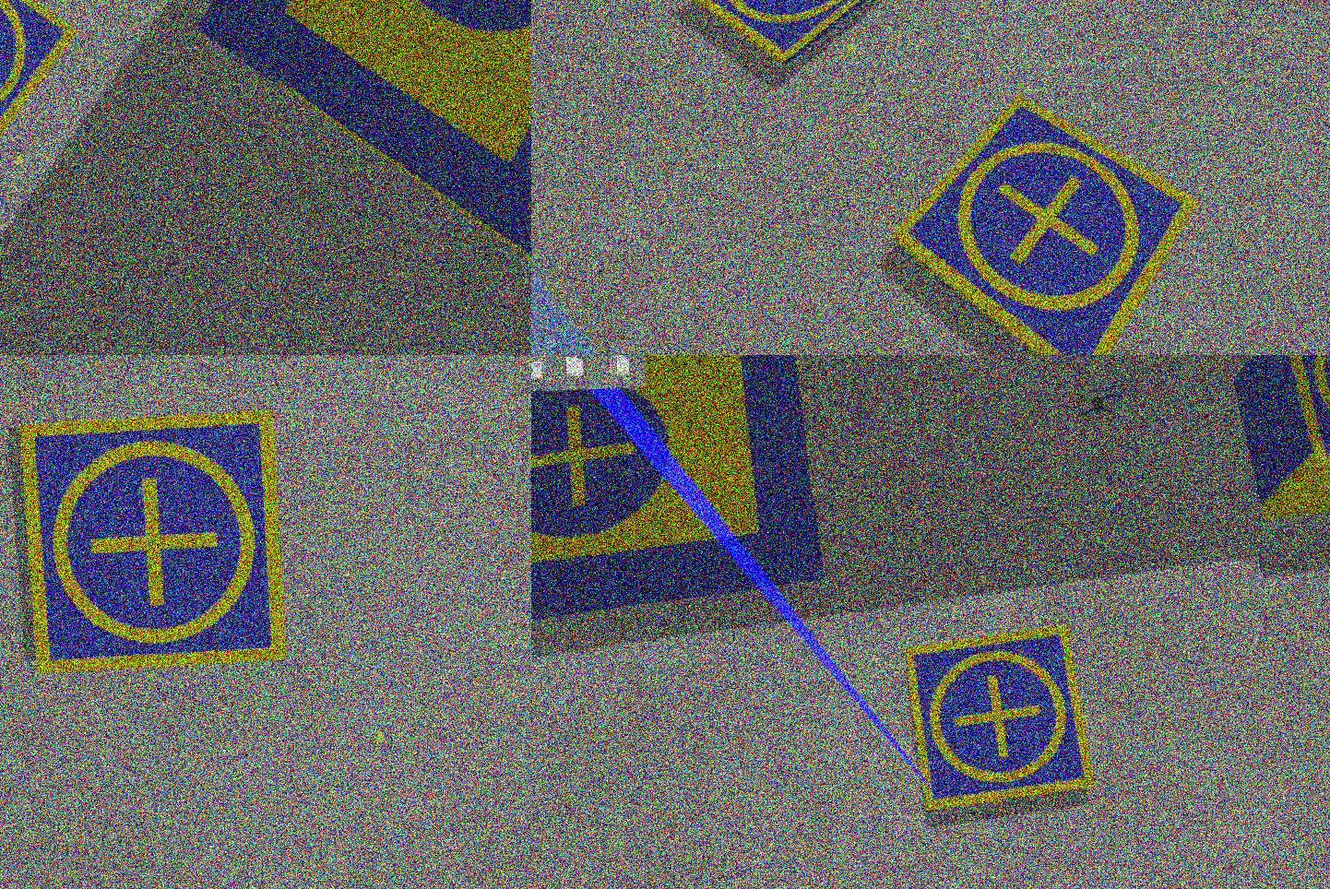large_base: (190, 1, 532, 277), (532, 356, 829, 646)
small_base: (886, 89, 1203, 356), (18, 409, 290, 675), (900, 620, 1100, 819), (675, 1, 907, 70), (1, 1, 84, 185)
